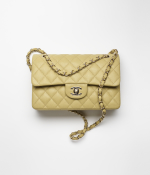channel: (23, 43, 127, 122), (98, 58, 114, 108), (59, 84, 87, 102)
